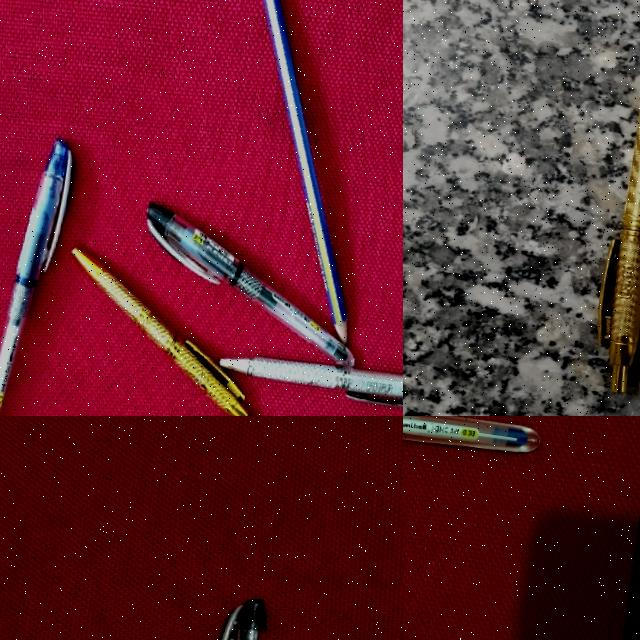pen: (132, 202, 362, 364), (0, 130, 75, 416), (403, 416, 539, 452), (222, 600, 266, 639)
pencil: (262, 0, 345, 342)
signature pen: (73, 249, 250, 416), (210, 344, 403, 411), (598, 113, 639, 392)
